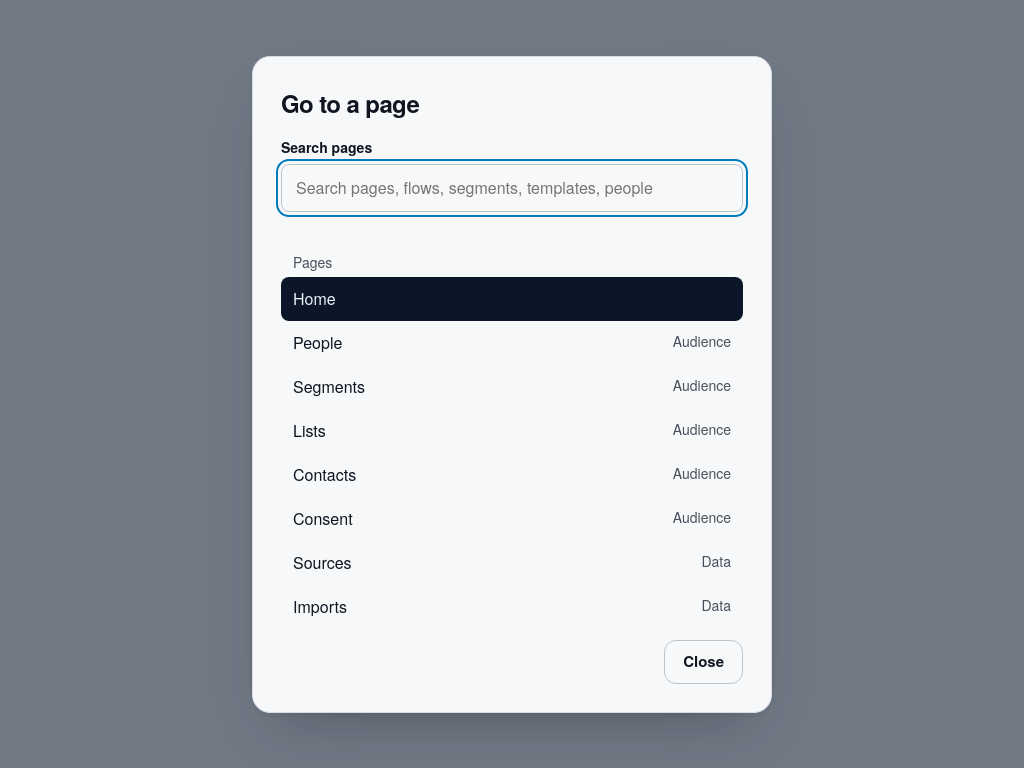
Test: page palette › shows segment and template states in their groups
The image size is (1024, 768).
In the dropdown: (512, 188) [281, 164, 743, 212], type "serie"
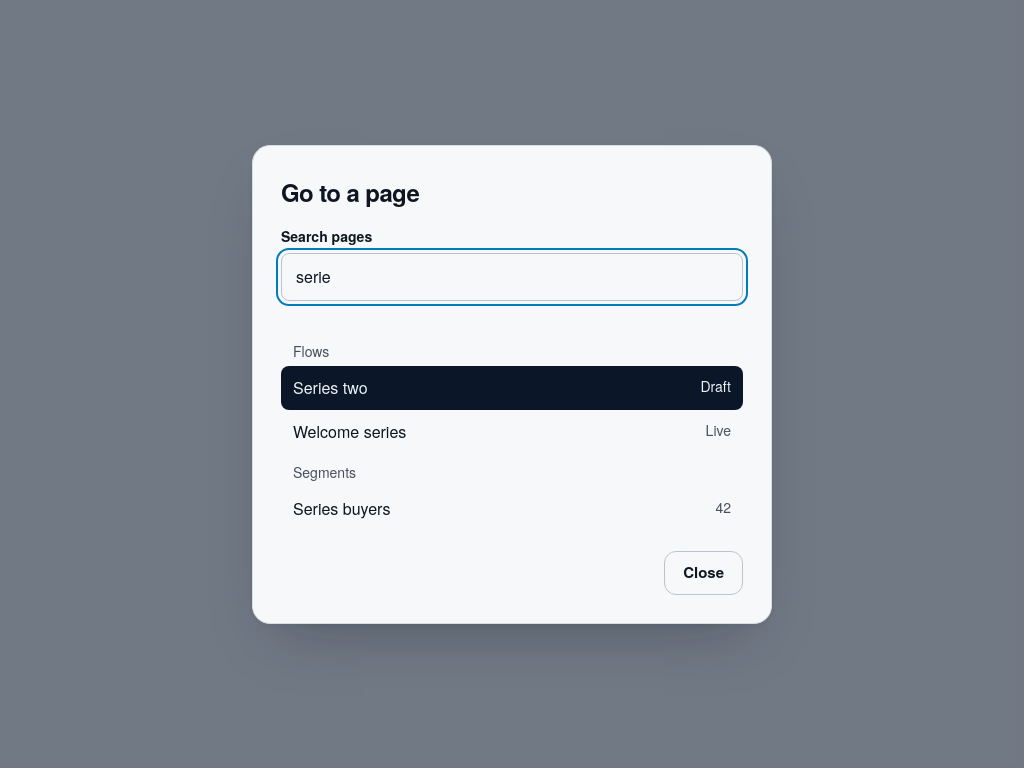
Check: the option with aria-label "Series buyers, segment, 42" is shown, box [293, 496, 731, 520]
Clear the dropdown: (512, 276) [281, 252, 743, 300]
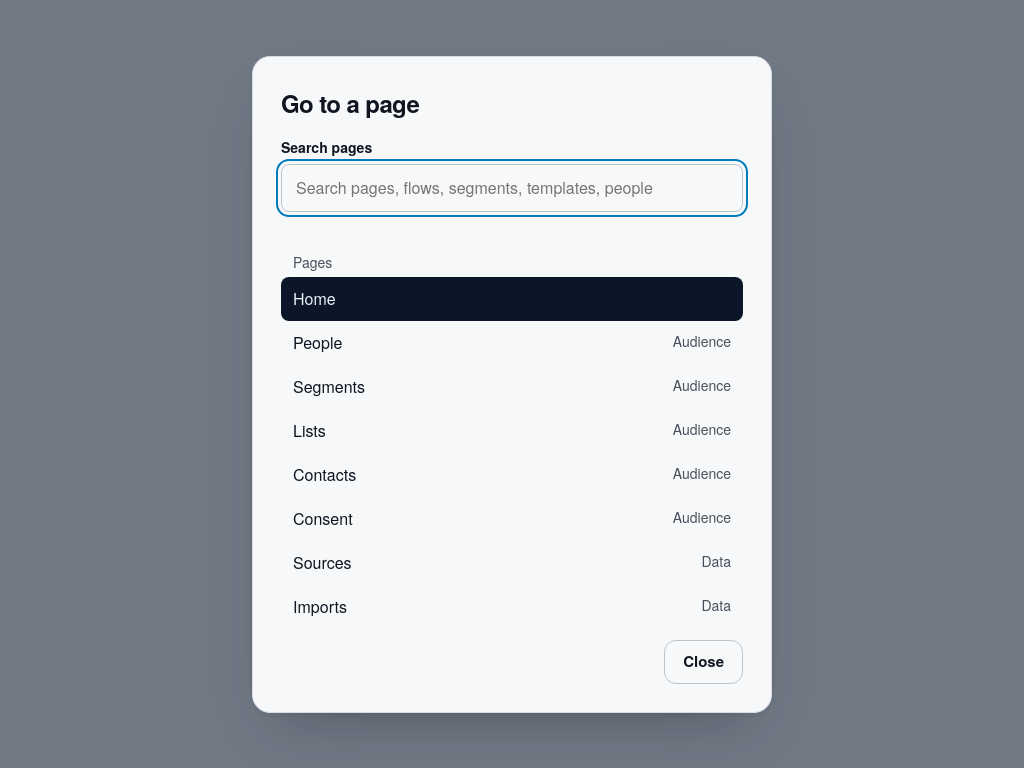
In the dropdown: (512, 188) [281, 164, 743, 212], type "serio"
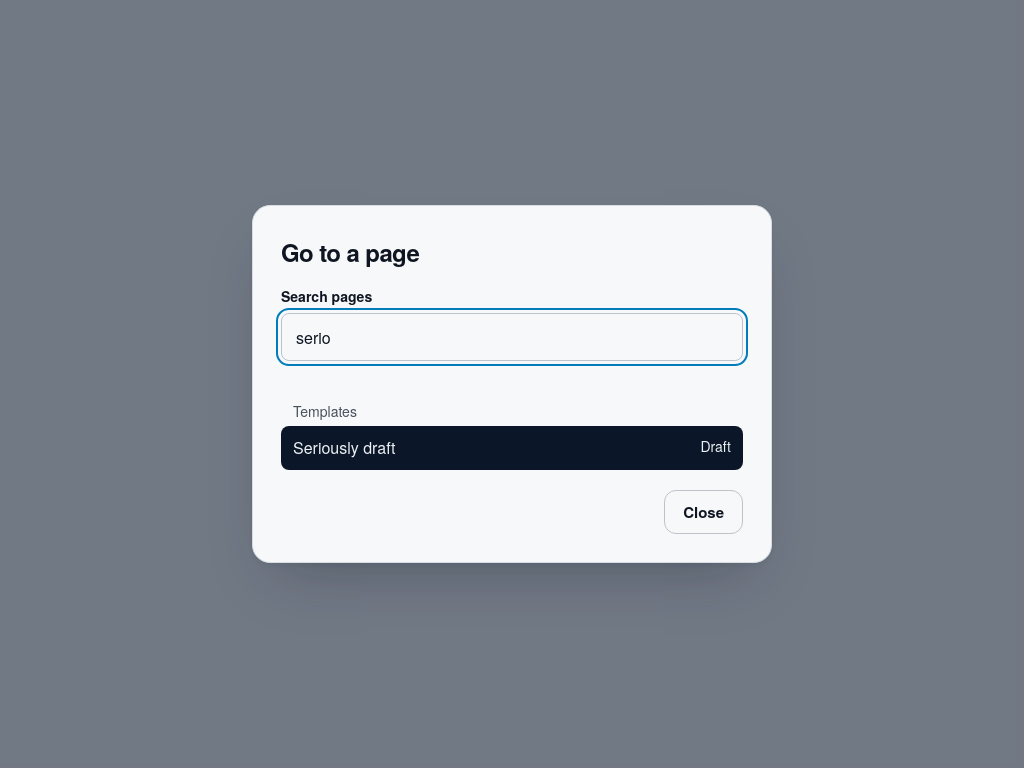
Check: the option with aria-label "Seriously draft, template, draft" is shown, box [281, 426, 743, 470]
